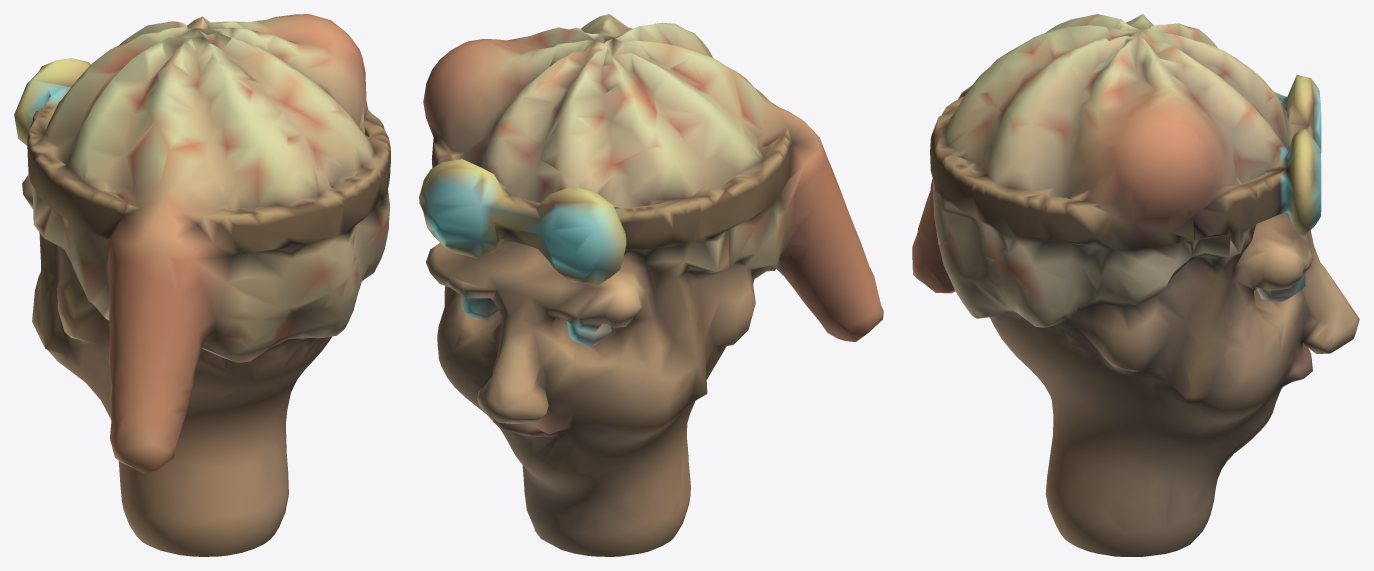
The model's file is hero_head.glb.
The picture shows the model from 3 angles, left to right: view 1: azimuth 30°, elevation 25°; view 2: azimuth 150°, elevation 25°; view 3: azimuth 270°, elevation 25°; orthographic projection.
Parts seen in each view (by area): view 1: geometry_0; view 2: geometry_0; view 3: geometry_0.
Boxes of the visible parts, x1=… form: geometry_0: x1=14, y1=14, x2=390, y2=556; geometry_0: x1=419, y1=14, x2=883, y2=556; geometry_0: x1=912, y1=14, x2=1359, y2=556.
Size of the model in its own units: 0.2394 by 0.3246 by 0.2655.
